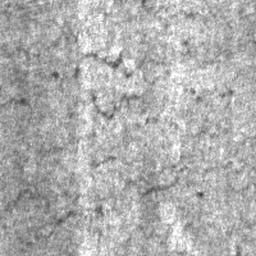Crazing: (4, 158, 249, 228), (35, 39, 233, 121), (164, 69, 235, 105), (35, 20, 78, 53), (141, 0, 200, 22), (0, 43, 31, 62), (145, 117, 179, 130), (88, 155, 117, 170), (0, 98, 30, 109)
